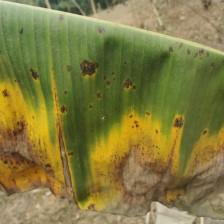pestalotiopsis: (0, 0, 224, 219)
